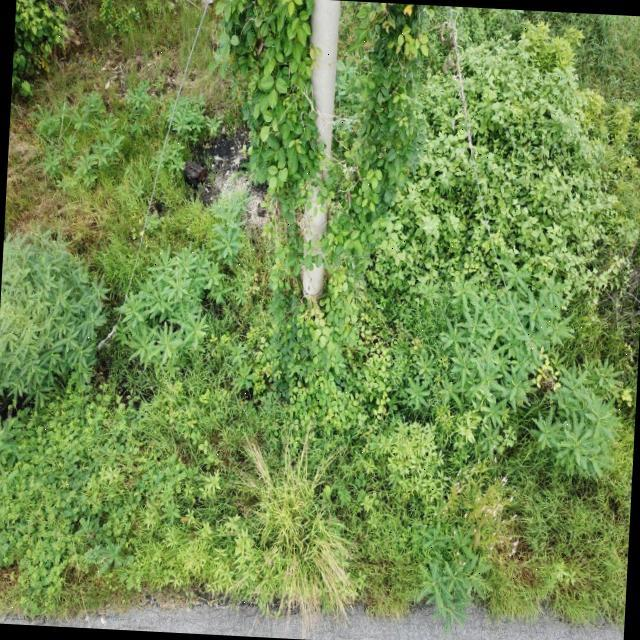critical vegetation: (218, 18, 430, 284)
